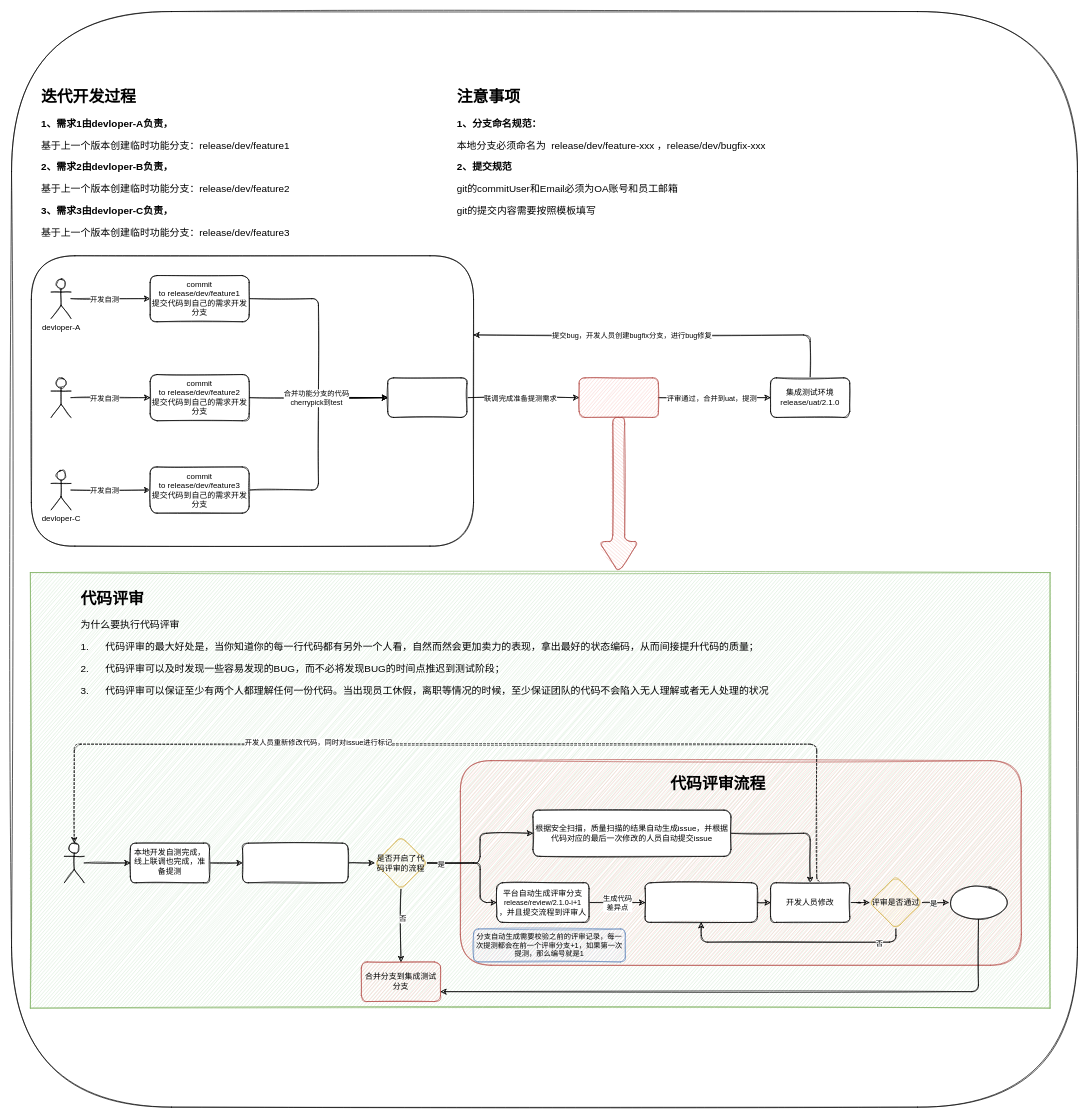
The diagram is 1089 pixels wide and 1119 high, and some of its shapes have lost their labels. Here are the shapes that lost their labels. From the top down, the centre of each, then its label:
the point at 60,397: devloper-B
the point at 427,397: 开发联调环境 release/test/2.1.0
the point at 618,397: 代码评审
the point at 74,862: Developer
the point at 295,862: 进入云端部署平台点击提测按钮(此处应该检查评审问题的解决情况)
the point at 700,902: 评审人对代码进行评审，可选中有问题的代码，并且平台提供代码最后修改人作为参考，自动生成issue，给到对应负责人
the point at 978,902: 结束代码评审
